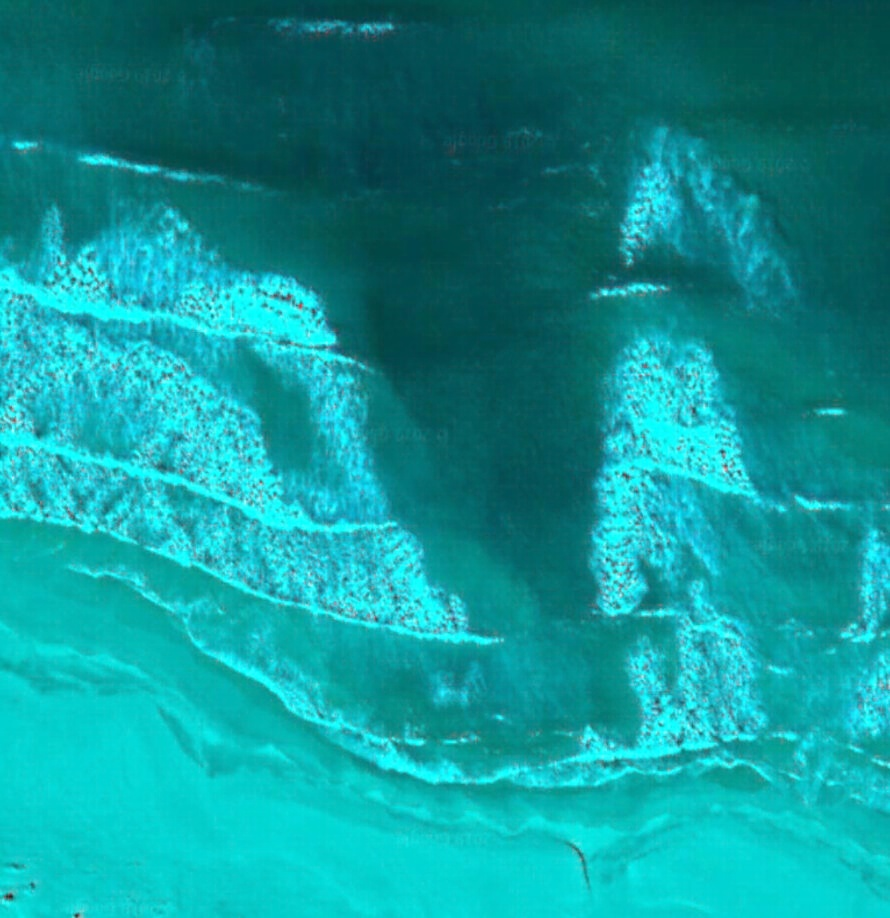rip_current: (240, 145, 717, 718)
